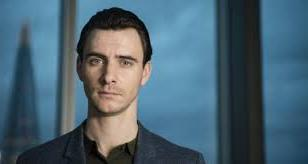Sober: (82, 32, 140, 110)
